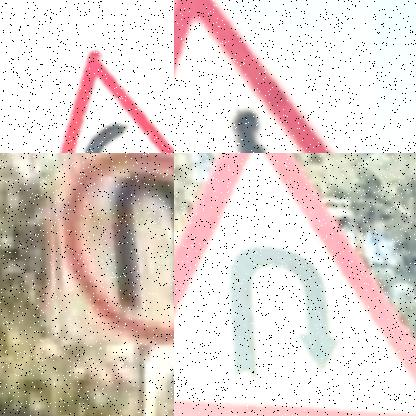Right bend: (63, 56, 174, 153)
U-Turn: (174, 153, 416, 416), (56, 153, 174, 345), (59, 153, 174, 335)
Zigzag Road Ahead: (174, 0, 338, 153)
